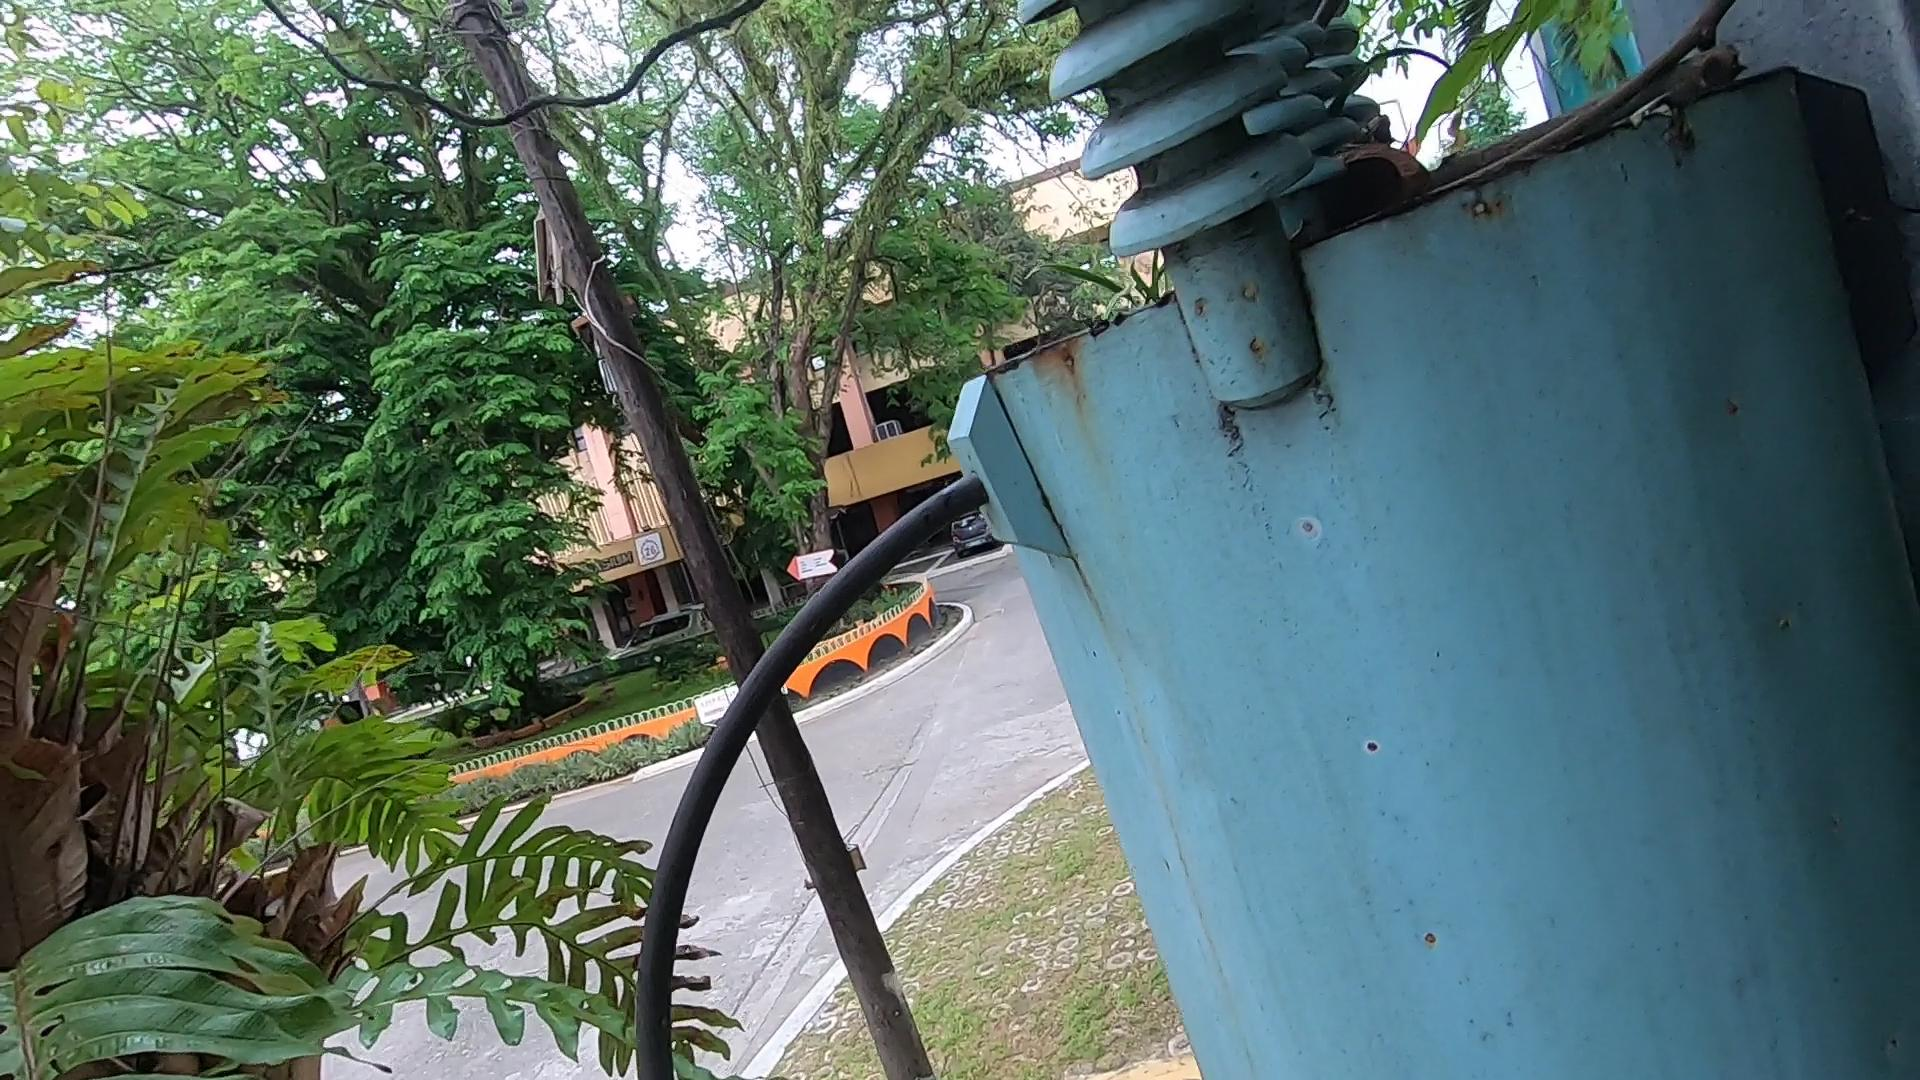branch with leaves: (1416, 46, 1764, 115)
mahogany fruit: (1337, 119, 1509, 311)
tree branch: (1453, 1, 1739, 198)
